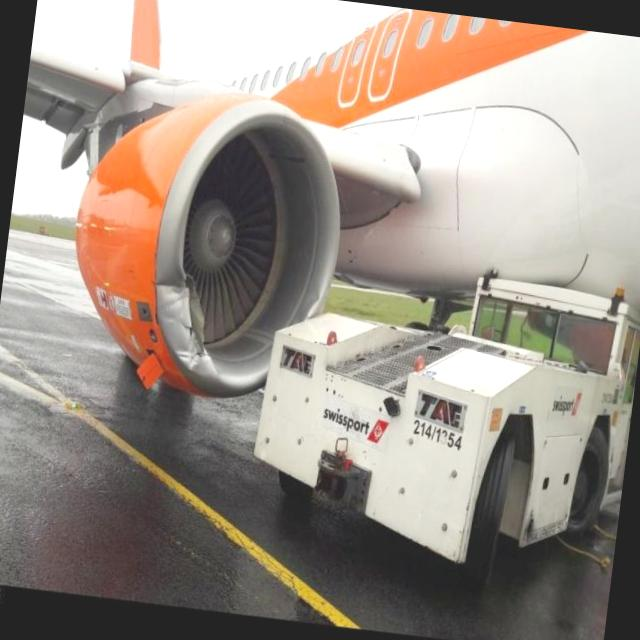crack: (175, 272, 212, 353)
dent: (150, 271, 186, 324), (288, 284, 330, 328), (171, 344, 200, 369)
